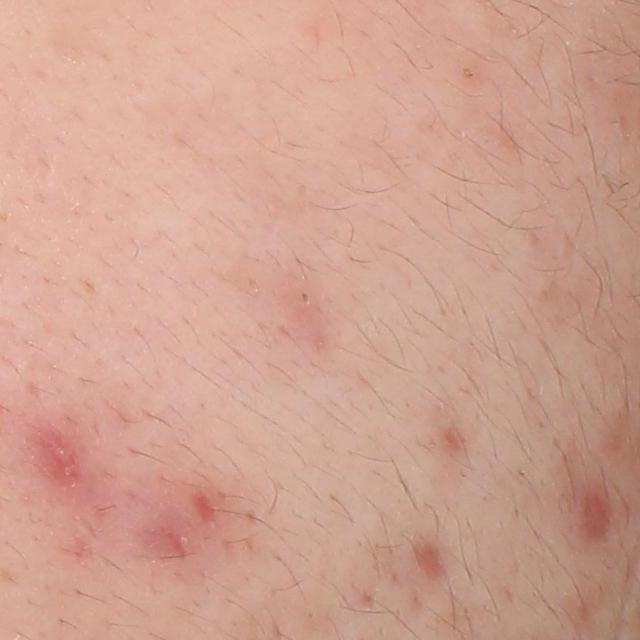atrophic_scar: (192, 491, 215, 524)
comedo: (297, 288, 314, 309)
